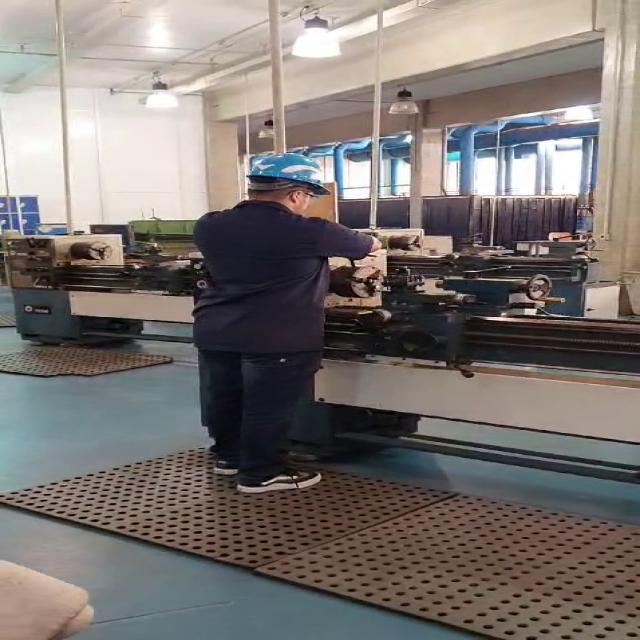oculos-epi: (286, 185, 323, 202)
